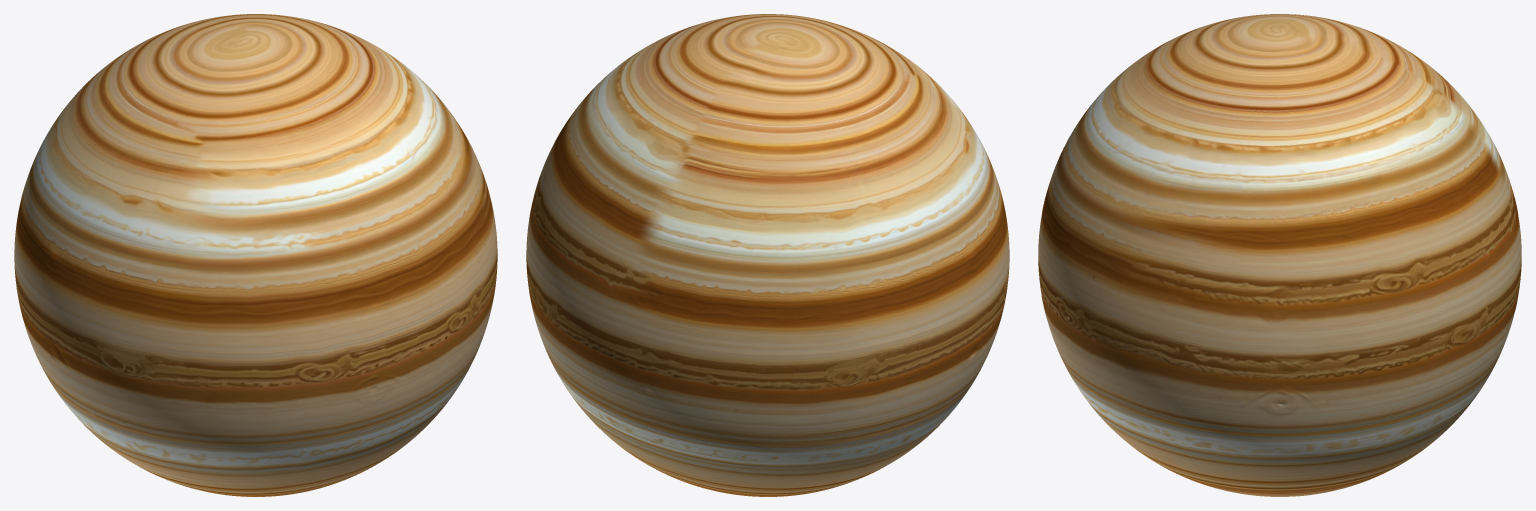
File: jupiter.glb
The picture shows the model from 3 angles, left to right: view 1: azimuth 30°, elevation 25°; view 2: azimuth 150°, elevation 25°; view 3: azimuth 270°, elevation 25°; orthographic projection.
Bounding box in the file's own units: 1.9 × 1.9 × 1.9.
Materials: 1 (1 with a texture image).
